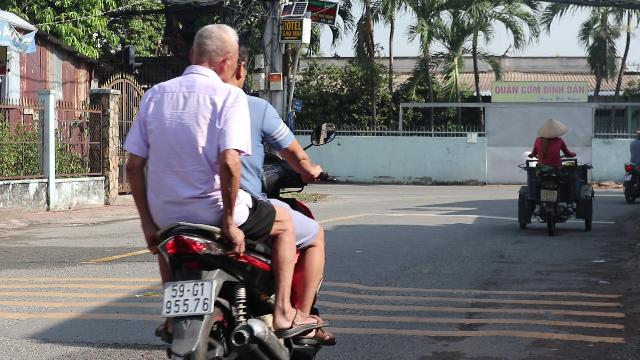licenseplate: (163, 282, 213, 316)
motorcyclist: (118, 22, 336, 356)
nohelmet: (188, 25, 240, 88)
